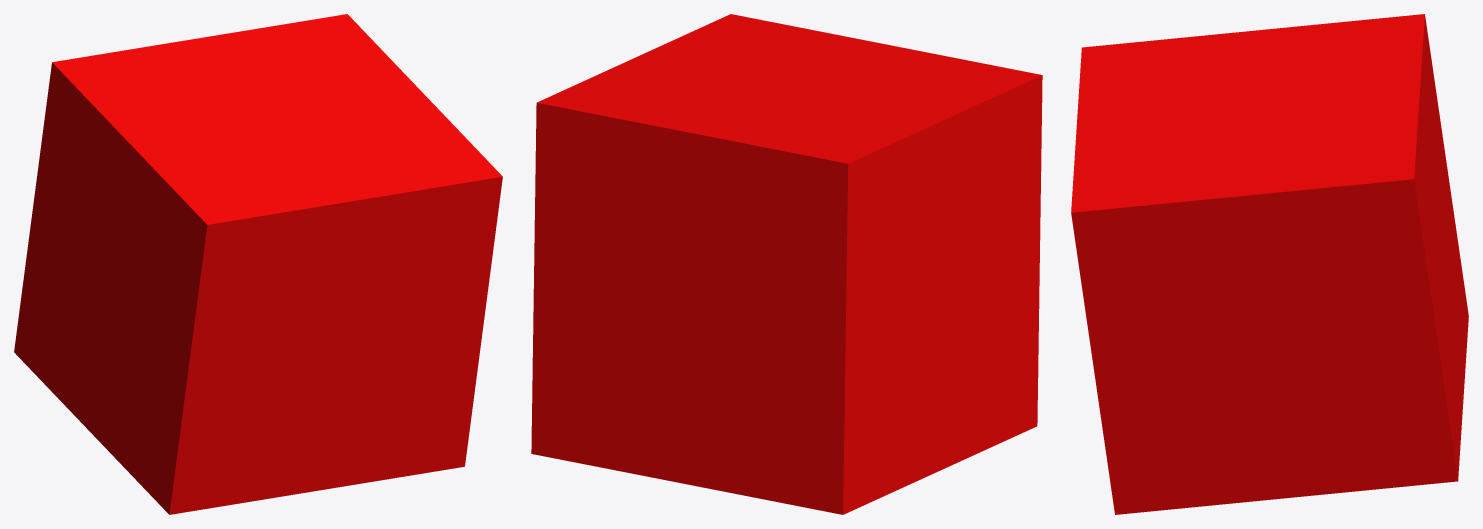
The model's file is anitest.fbx.
3 views of the same model, side by side, from view 1: azimuth 30°, elevation 25°; view 2: azimuth 150°, elevation 25°; view 3: azimuth 270°, elevation 25° (orthographic). The views are drawn at different scales.
Visible parts, largest first — view 1: pCube1; view 2: pCube1; view 3: pCube1.
Part boxes in pixels (<box>): pCube1: <box>14,14,502,514</box>; pCube1: <box>531,14,1042,514</box>; pCube1: <box>1071,14,1468,514</box>.
Size of the model in its own units: 1.09 by 1.18 by 1.15.
